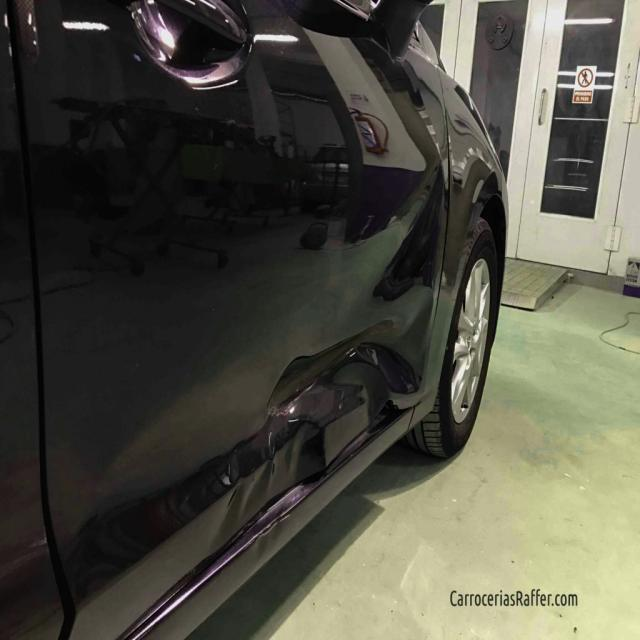minor: (229, 320, 426, 547)
